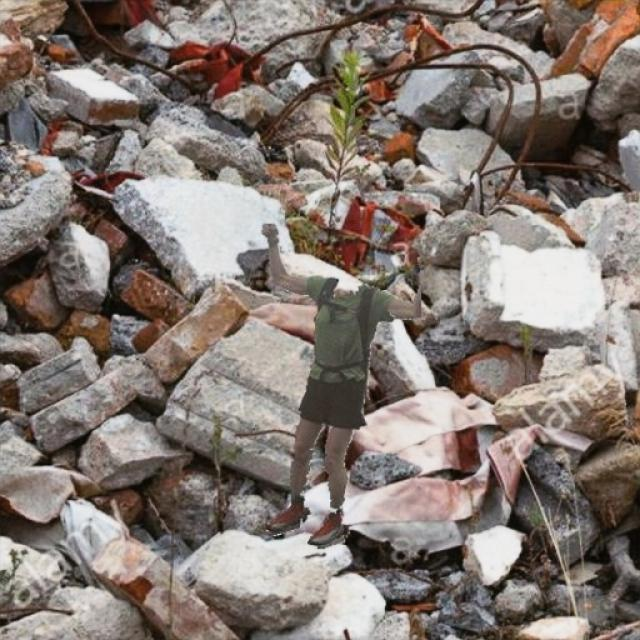Person in Rubble: (261, 223, 420, 548)
